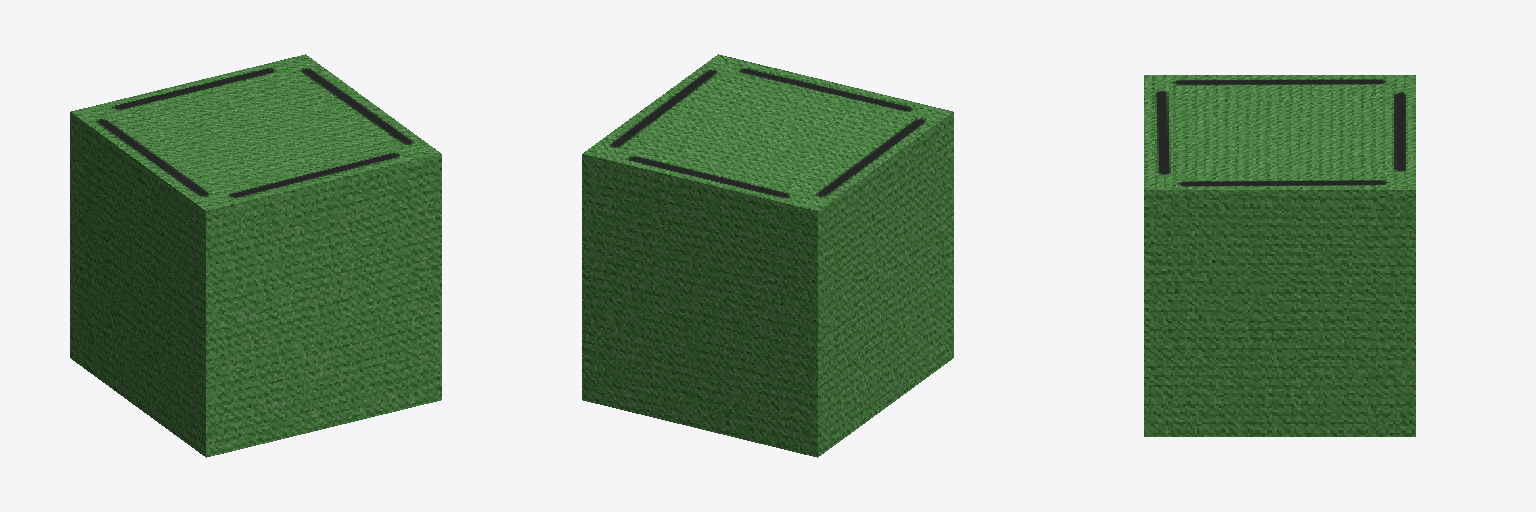
3 views of the same model, side by side, from view 1: azimuth 30°, elevation 25°; view 2: azimuth 150°, elevation 25°; view 3: azimuth 270°, elevation 25° (orthographic).
Parts seen in each view (by area): view 1: Box001.015; view 2: Box001.015; view 3: Box001.015.
Boxes of the visible parts, x1,y1,x2,y2 form: Box001.015: [70, 54, 441, 457]; Box001.015: [582, 54, 953, 457]; Box001.015: [1144, 75, 1415, 436].
Bounding box in the file's own units: 0.254 × 0.254 × 0.254.
Materials: 1 (1 with a texture image).